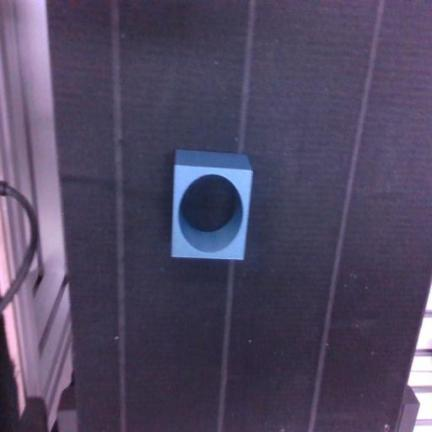square: (172, 151, 253, 259)
